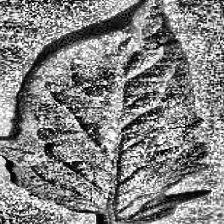disease: (0, 0, 211, 222)
